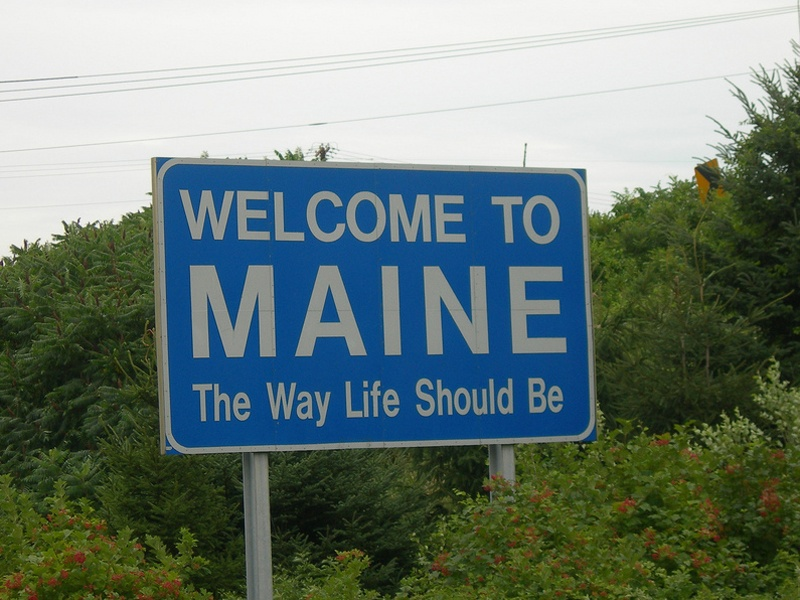text: (187, 262, 202, 361), (203, 262, 218, 361), (219, 262, 234, 361), (235, 262, 250, 361), (251, 262, 266, 361), (267, 262, 282, 361), (283, 262, 298, 361), (299, 262, 314, 361), (315, 262, 330, 361), (331, 262, 346, 361), (347, 262, 362, 361), (363, 262, 378, 361), (379, 262, 394, 361), (395, 262, 410, 361), (411, 262, 426, 361), (427, 262, 442, 361), (443, 262, 458, 361), (459, 262, 474, 361), (475, 262, 490, 361), (491, 262, 506, 361), (507, 262, 522, 361), (523, 262, 538, 361), (539, 262, 554, 361), (555, 262, 570, 361), (170, 188, 185, 244), (186, 188, 201, 244), (202, 188, 217, 244), (218, 188, 233, 244), (234, 188, 249, 244), (250, 188, 265, 244), (266, 188, 281, 244), (282, 188, 297, 244), (298, 188, 313, 244), (314, 188, 329, 244), (330, 188, 345, 244), (346, 188, 361, 244), (362, 188, 377, 244), (378, 188, 393, 244), (394, 188, 409, 244), (410, 188, 425, 244), (426, 188, 441, 244), (442, 188, 457, 244), (458, 188, 473, 244), (486, 194, 501, 246), (502, 194, 517, 246), (518, 194, 533, 246), (534, 194, 549, 246), (550, 194, 565, 246), (261, 380, 276, 431), (277, 380, 292, 431), (293, 380, 308, 431), (309, 380, 324, 431), (325, 380, 340, 431), (188, 383, 203, 426), (204, 383, 219, 426), (220, 383, 235, 426), (236, 383, 251, 426), (410, 376, 425, 419), (426, 376, 441, 419), (442, 376, 457, 419), (458, 376, 473, 419), (474, 376, 489, 419), (490, 376, 505, 419), (506, 376, 521, 419), (341, 380, 356, 421), (357, 380, 372, 421), (373, 380, 388, 421), (389, 380, 404, 421), (522, 376, 537, 414), (538, 376, 553, 414), (554, 376, 569, 414)
